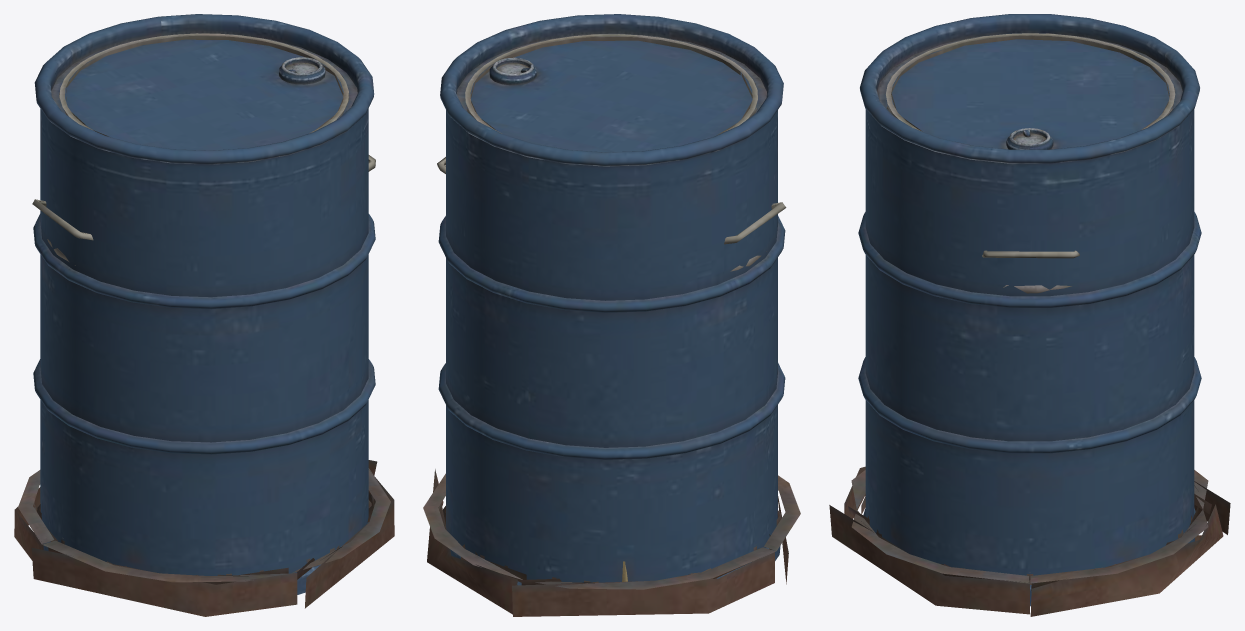
File: props.glb
3 renders of one model, left to right at view 1: azimuth 30°, elevation 25°; view 2: azimuth 150°, elevation 25°; view 3: azimuth 270°, elevation 25°, orthographic.
Parts seen in each view (by area): view 1: Barrel, Manhole, TrashCan; view 2: Barrel, Manhole, TrashCan; view 3: Barrel, Manhole, TrashCan.
Boxes of the visible parts, left/top/right/bottom form: Barrel: left=33, top=14, right=375, bottom=594; Manhole: left=14, top=460, right=394, bottom=616; TrashCan: left=32, top=33, right=375, bottom=265; Barrel: left=438, top=14, right=785, bottom=585; Manhole: left=423, top=469, right=800, bottom=616; TrashCan: left=437, top=34, right=786, bottom=271; Barrel: left=858, top=14, right=1201, bottom=606; Manhole: left=829, top=466, right=1230, bottom=616; TrashCan: left=886, top=33, right=1175, bottom=293.
Size of the model in its own units: 0.746 by 0.9305 by 0.746.
6 materials, 6 textured.
